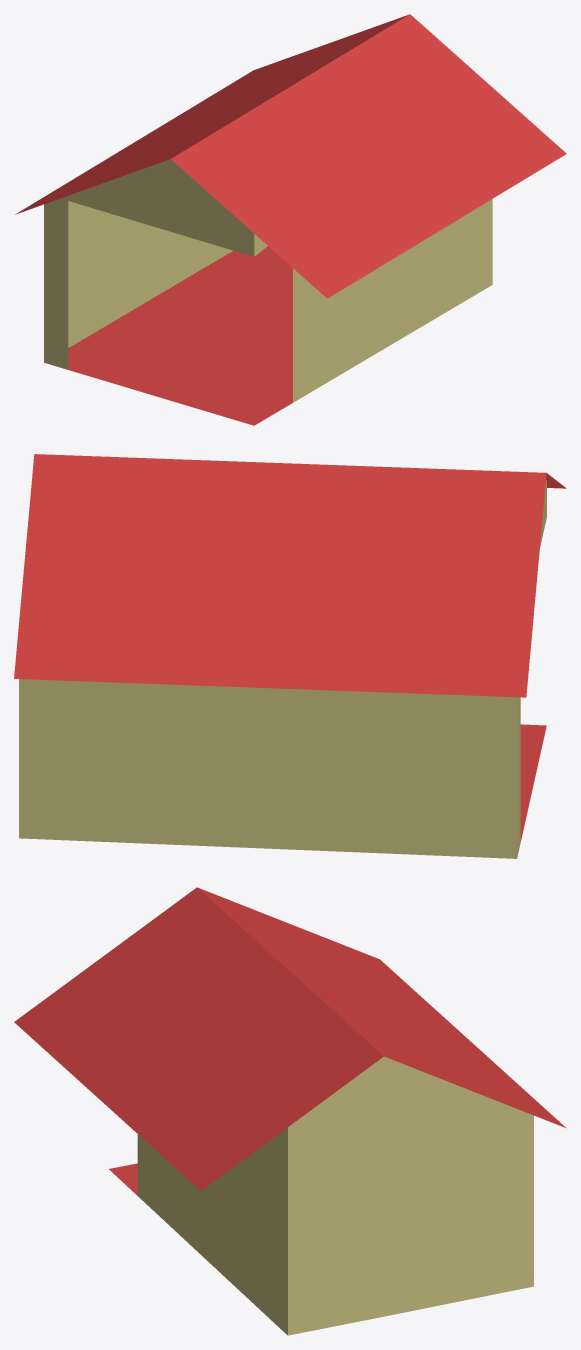
3 views of the same model, one above another, from view 1: azimuth 30°, elevation 25°; view 2: azimuth 150°, elevation 25°; view 3: azimuth 270°, elevation 25° (orthographic). The views are drawn at different scales.
Bounding box in the file's own units: 18.01 × 17.43 × 9.05.
